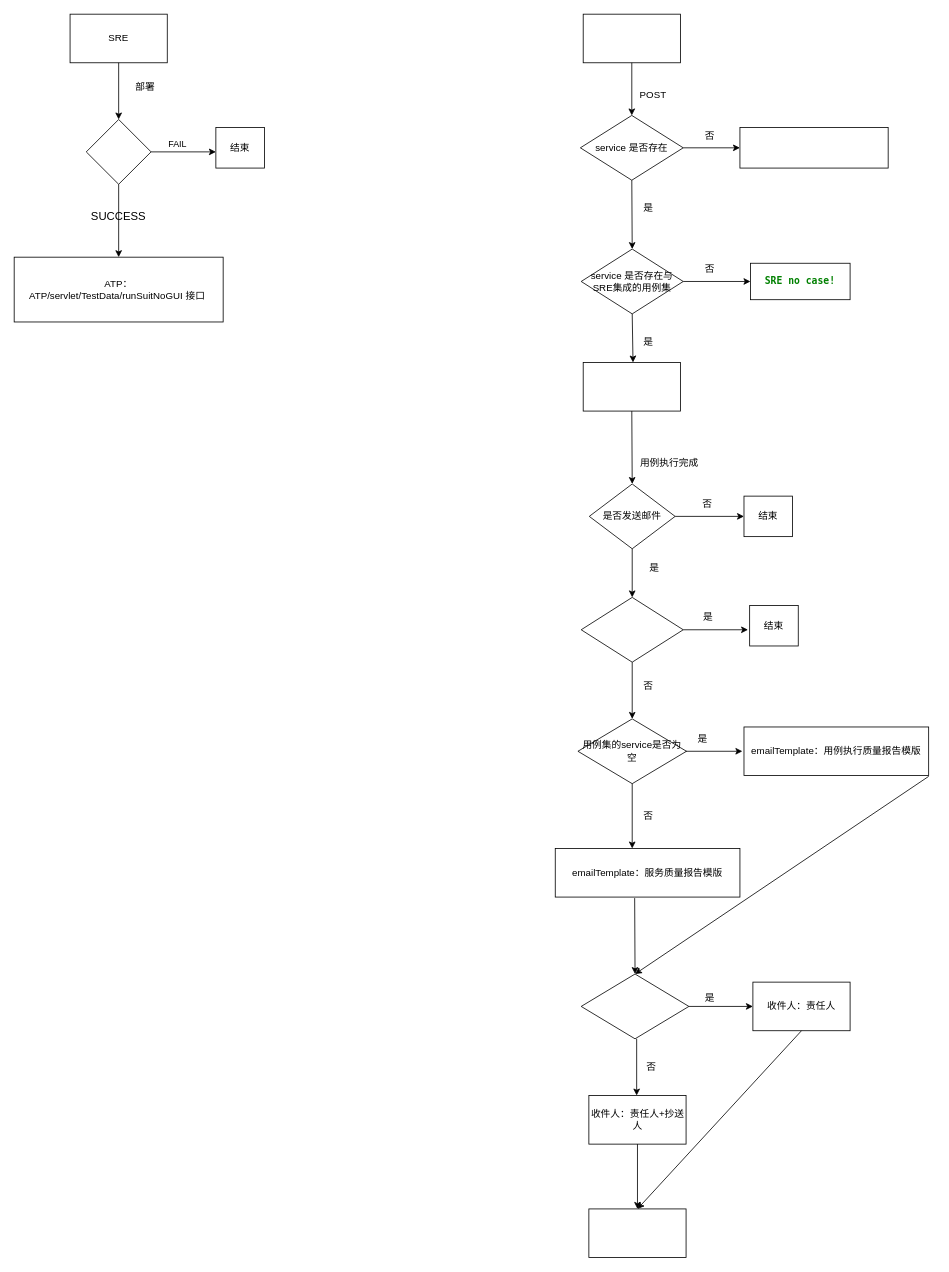
The diagram is 949 pixels wide and 1272 high, and some of its shapes have lost their labels. Each missing label, with the box of its shape:
ATP: (582, 13, 680, 63)
send email: (588, 1208, 686, 1258)
service: (85, 119, 151, 184)
service in table unexist!: (739, 127, 888, 168)
执行用例集case: (582, 362, 680, 411)
抄送人是否为空: (580, 973, 689, 1039)
责任人是否为空: (580, 597, 683, 662)
